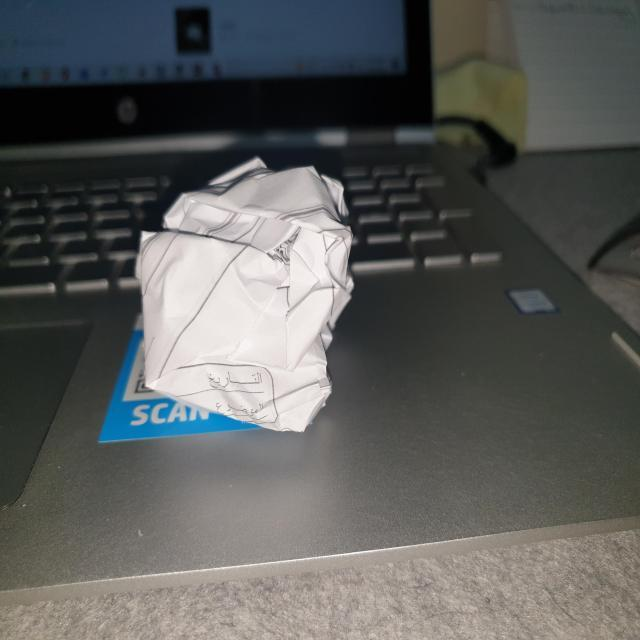cardboard paper: (135, 156, 351, 430)
